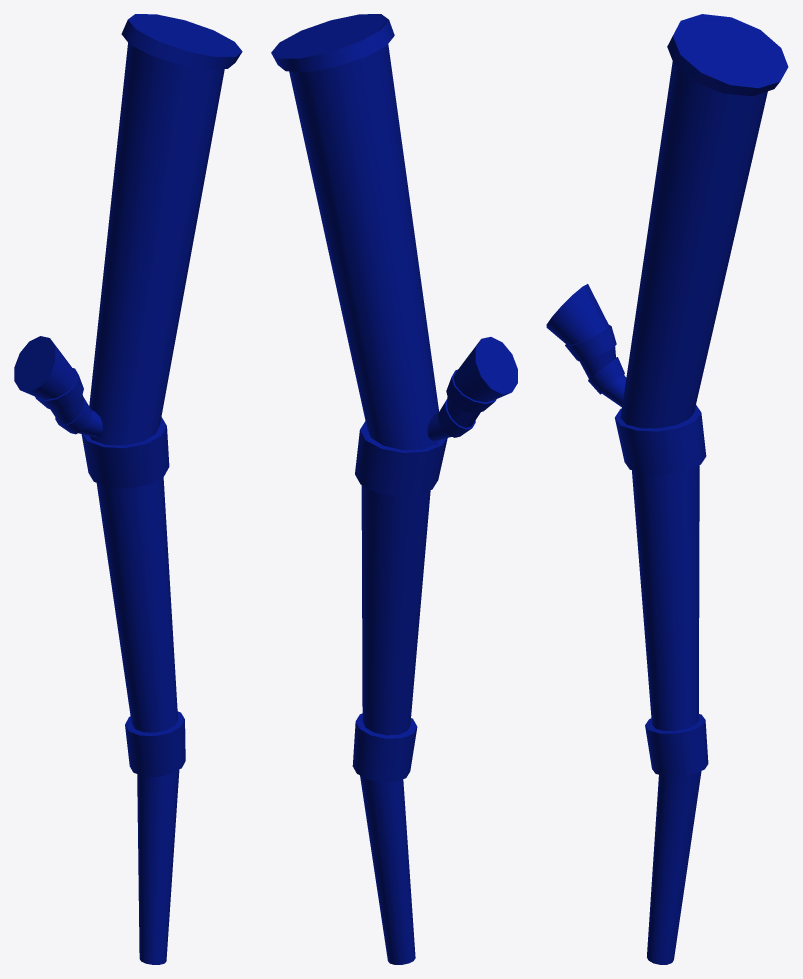
File: SM_pipe thin.fbx
The picture shows the model from 3 angles, left to right: view 1: azimuth 30°, elevation 25°; view 2: azimuth 150°, elevation 25°; view 3: azimuth 330°, elevation 25°; orthographic projection. The views are drawn at different scales.
Parts seen in each view (by area): view 1: pipe thin; view 2: pipe thin; view 3: pipe thin.
Part boxes in pixels (left/top/right/bottom): pipe thin: left=14, top=14, right=242, bottom=964; pipe thin: left=271, top=14, right=517, bottom=964; pipe thin: left=546, top=14, right=788, bottom=964.
Bounding box in the file's own units: 1001 × 3981 × 461.
